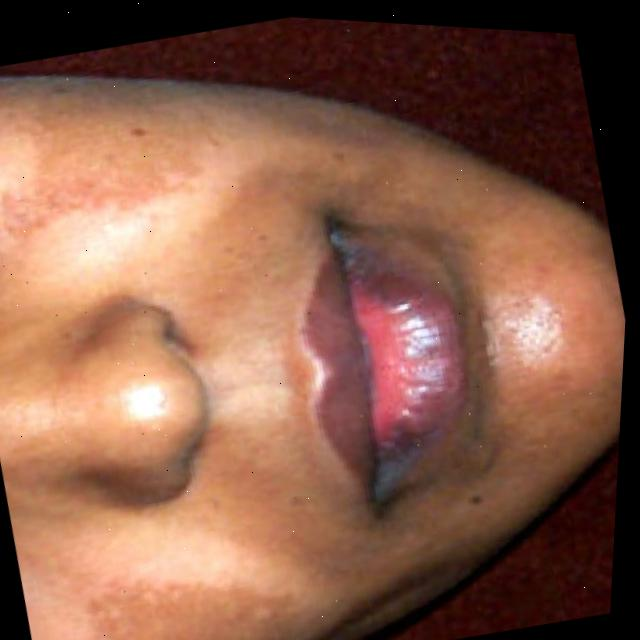Melasma: (424, 171, 617, 471), (10, 51, 218, 235), (68, 546, 280, 640)
